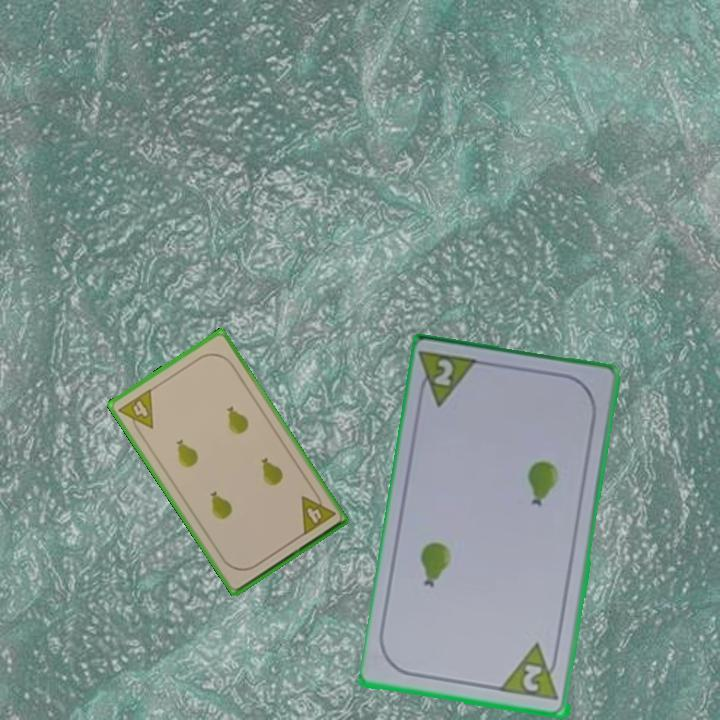2p: (519, 661, 547, 695), (431, 355, 457, 390)
4p: (295, 486, 338, 538), (115, 385, 156, 438)
